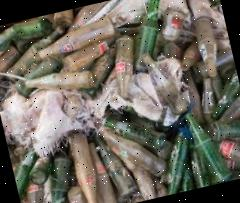glass: (0, 0, 240, 152), (155, 107, 235, 194)
